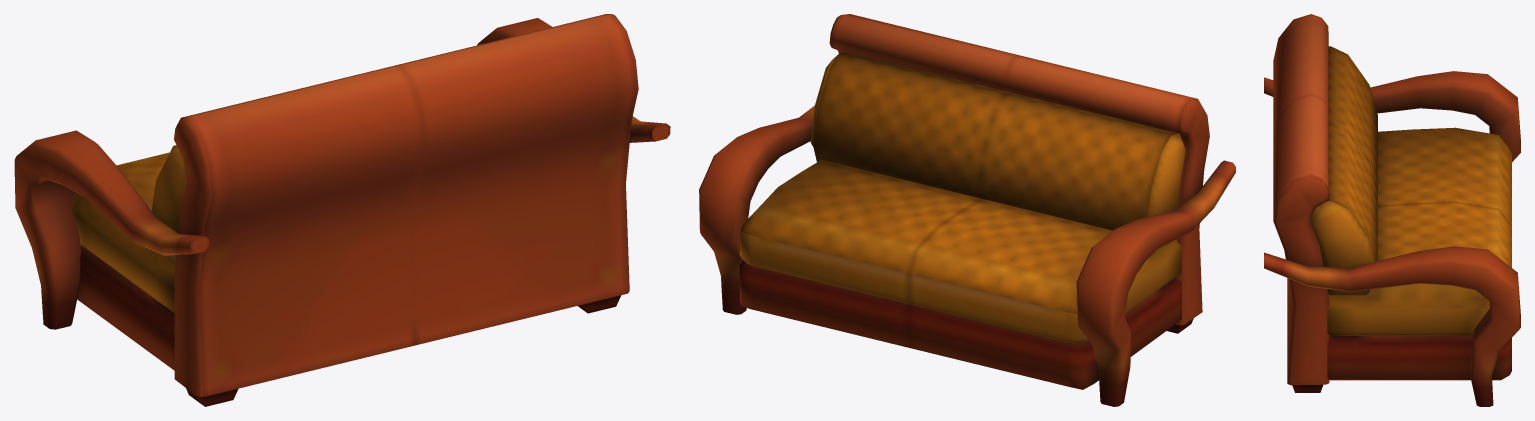
Rendered from Sofa_02.gltf.
The picture shows the model from 3 angles, left to right: view 1: azimuth 30°, elevation 25°; view 2: azimuth 150°, elevation 25°; view 3: azimuth 270°, elevation 25°; orthographic projection. The views are drawn at different scales.
Visible parts, largest first — view 1: Sofa_02; view 2: Sofa_02; view 3: Sofa_02.
Boxes of the visible parts, <box> form: Sofa_02: <box>14,14,670,406</box>; Sofa_02: <box>699,14,1235,406</box>; Sofa_02: <box>1264,14,1520,406</box>.
Size of the model in its own units: 67.18 by 35.69 by 37.67.
Materials: 1 (1 with a texture image).
